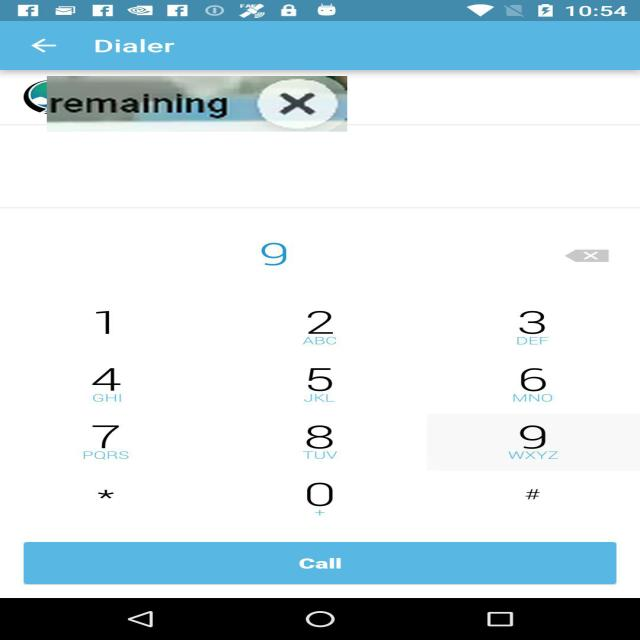misdirection: (47, 76, 347, 132)
